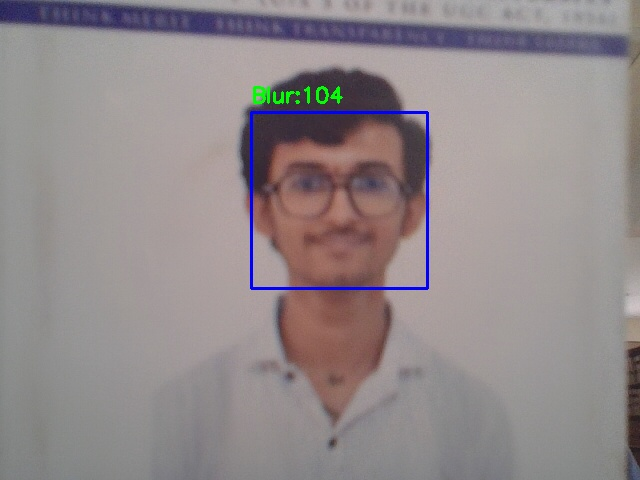fake: (251, 112, 427, 288)
